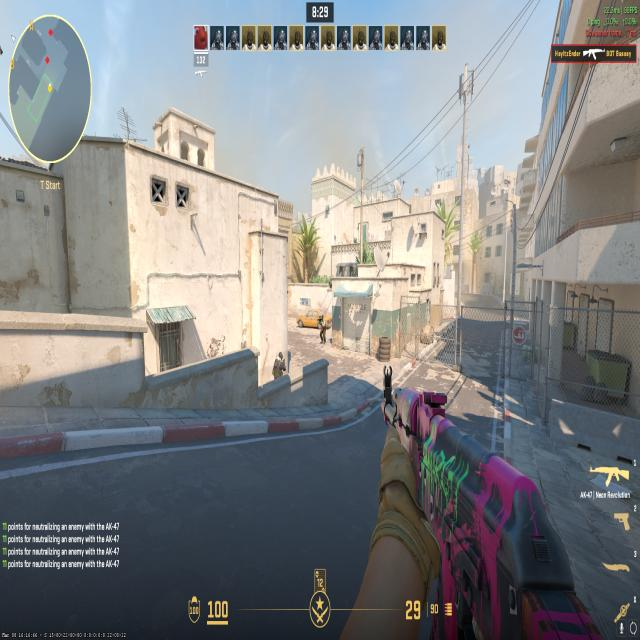ct: (272, 347, 286, 379)
t: (318, 311, 326, 344)
